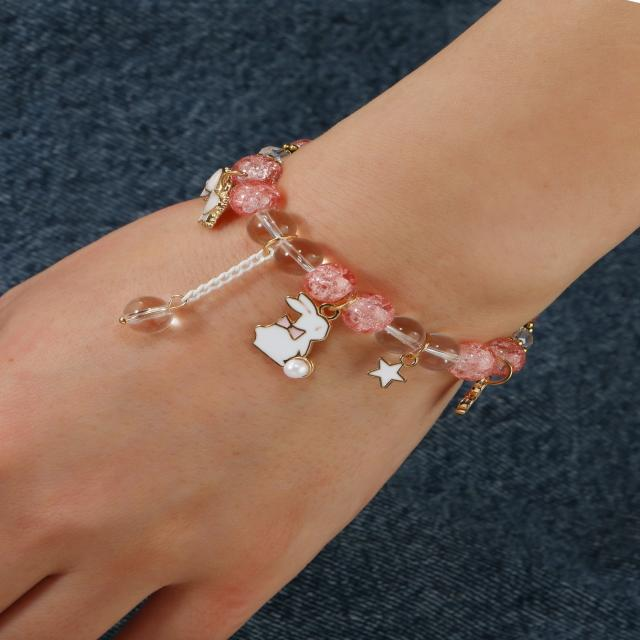bracelet: (83, 66, 580, 452)
